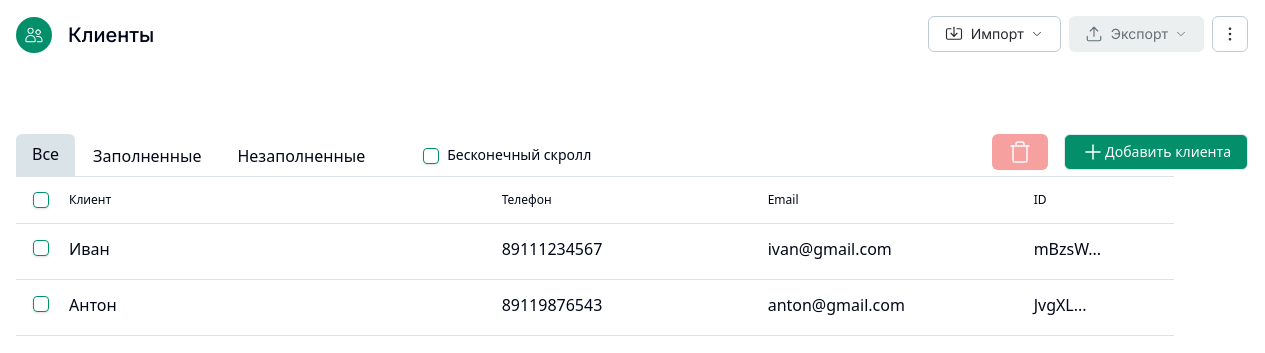
it: Customers table create/update/delete operations › delete a customer
The image size is (1265, 353).
Expected: the table is shown, [16,176,1174,336]
Click the checkbox next to "Иван" at [41, 248], box [33,240,49,256]
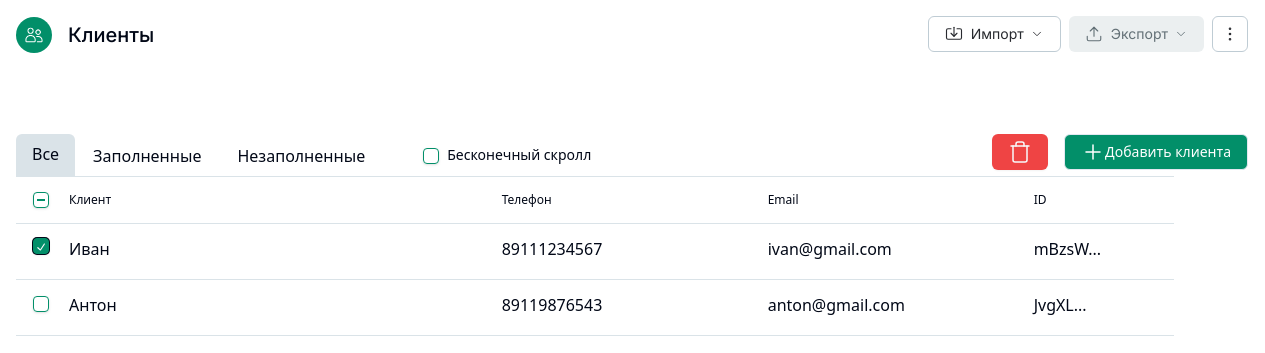
Result: the checkbox next to "Иван" is checked at [33,238,49,254]
Result: the button named "удалить клиента(-ов)" is enabled
Click the button named "удалить клиента(-ов)" at [1020, 152], box [992,134,1048,170]
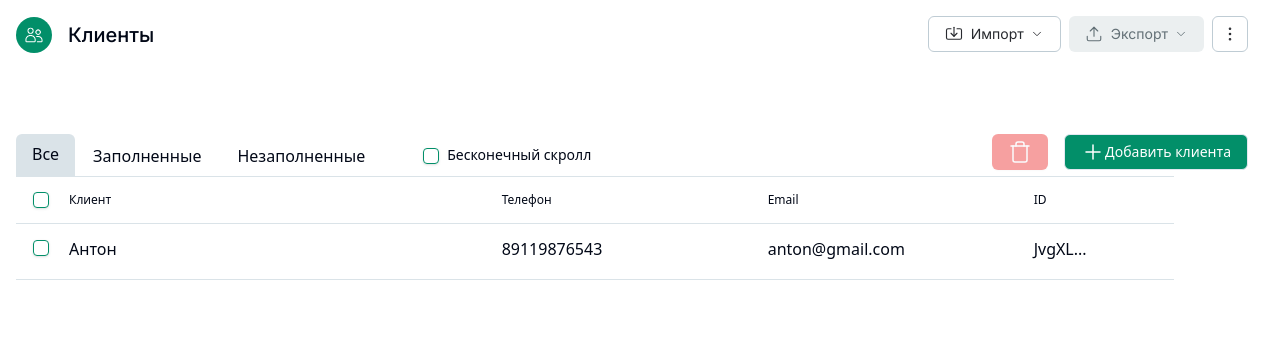
Result: the row "Иван 89111234567 ivan@gmail.com" is gone
